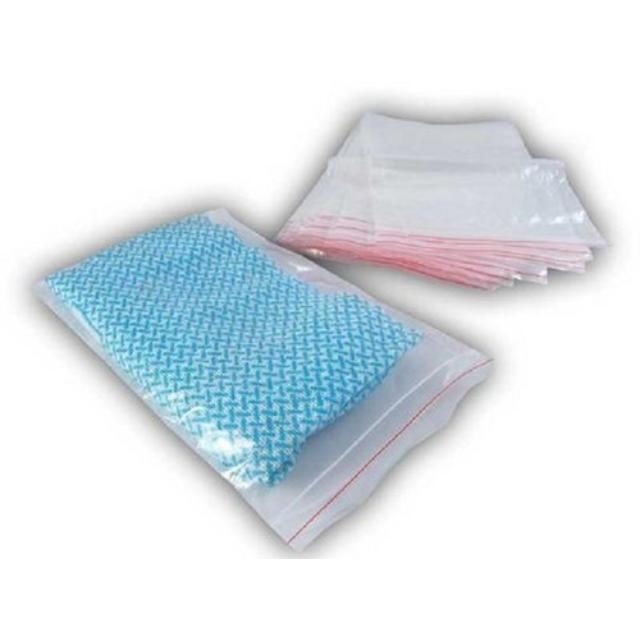plastic: (40, 113, 604, 548)
